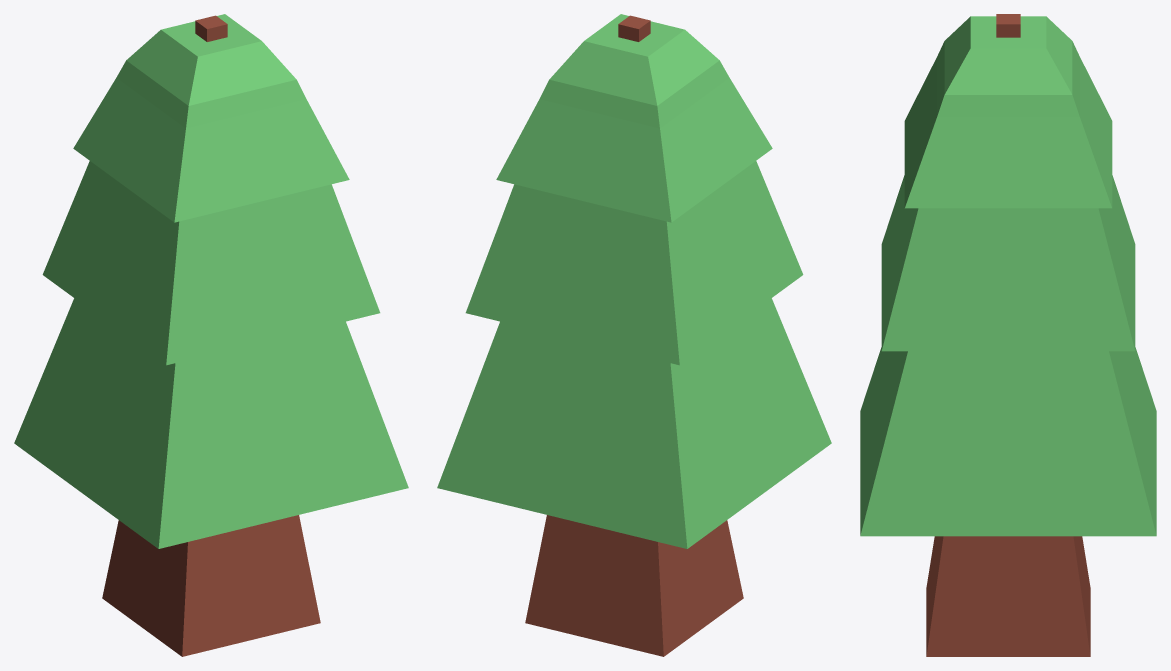
Rendered from lowPolyTree1.fbx.
The picture shows the model from 3 angles, left to right: view 1: azimuth 30°, elevation 25°; view 2: azimuth 150°, elevation 25°; view 3: azimuth 270°, elevation 25°; orthographic projection. The views are drawn at different scales.
Parts seen in each view (by area): view 1: Cube; view 2: Cube; view 3: Cube.
Boxes of the visible parts, x1=… form: Cube: x1=14, y1=14, x2=408, y2=656; Cube: x1=437, y1=14, x2=831, y2=656; Cube: x1=860, y1=14, x2=1156, y2=656.
Bounding box in the file's own units: 113 × 253 × 113.
